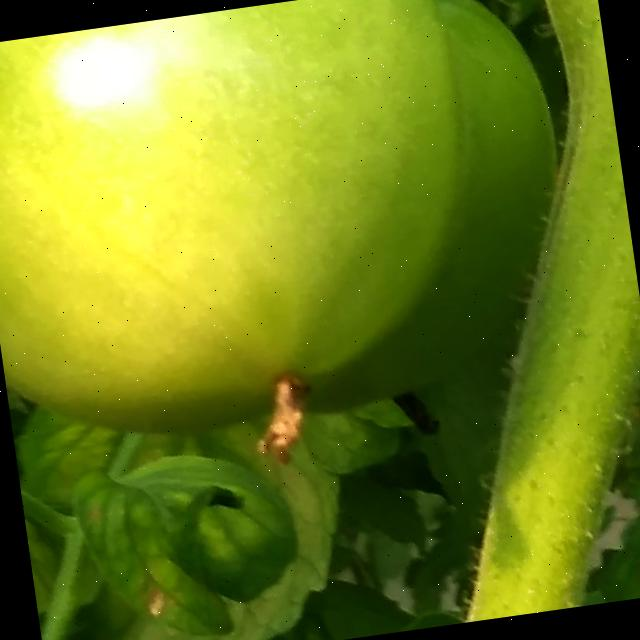tomato: (0, 0, 568, 640)
